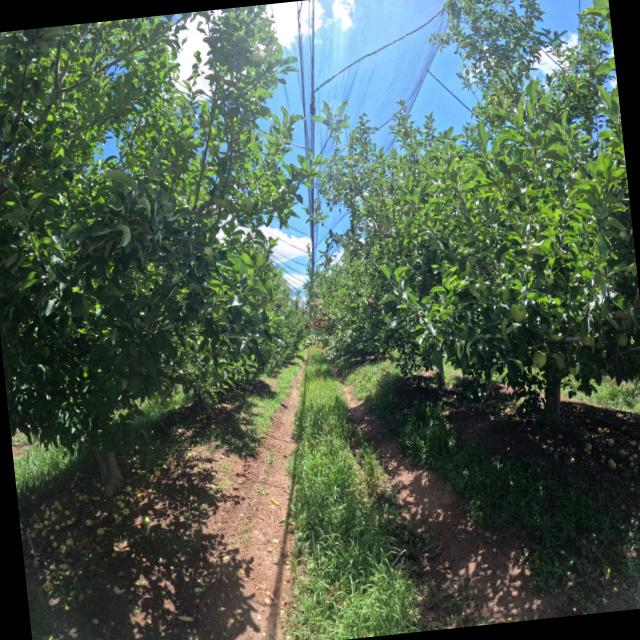-FireBlight-: (304, 314, 325, 331), (299, 304, 308, 315), (310, 300, 318, 308)
